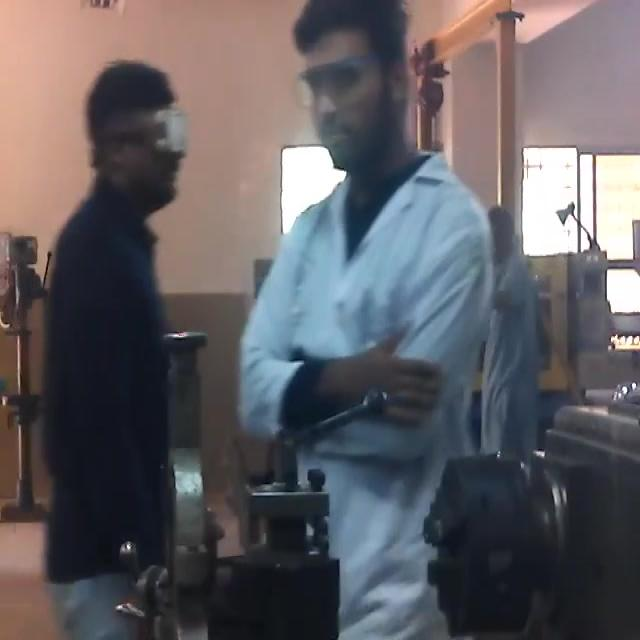googles: (294, 56, 365, 112), (156, 106, 188, 156)
labcoat: (236, 141, 500, 640)
